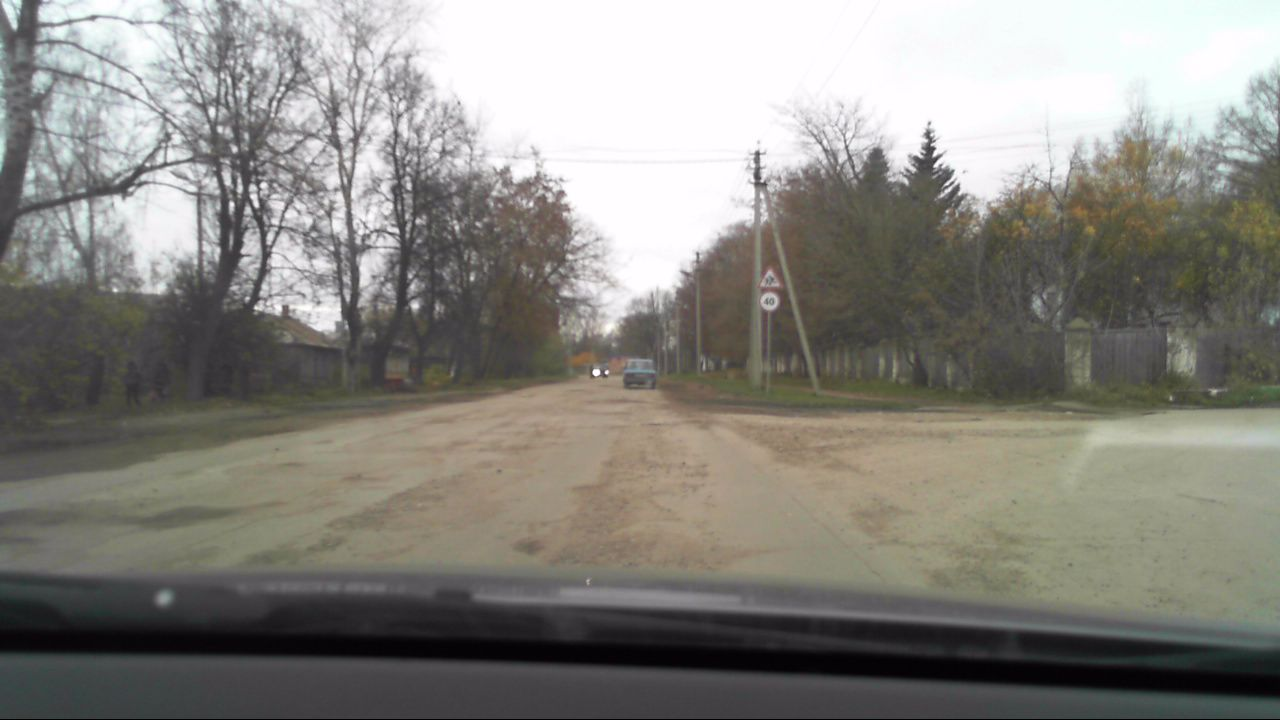speed_warning_40: (759, 293, 780, 311)
